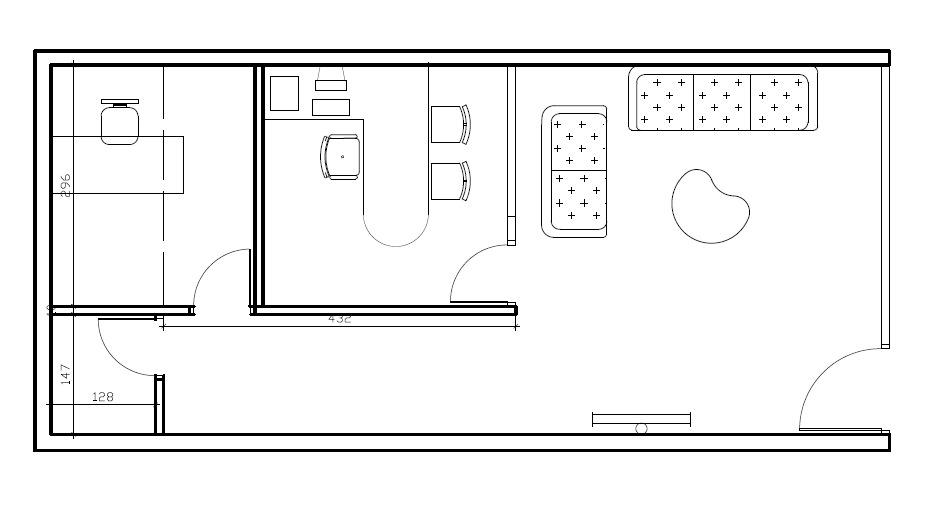door: (791, 339, 899, 434), (91, 314, 174, 384), (183, 244, 266, 314), (444, 240, 527, 310)
